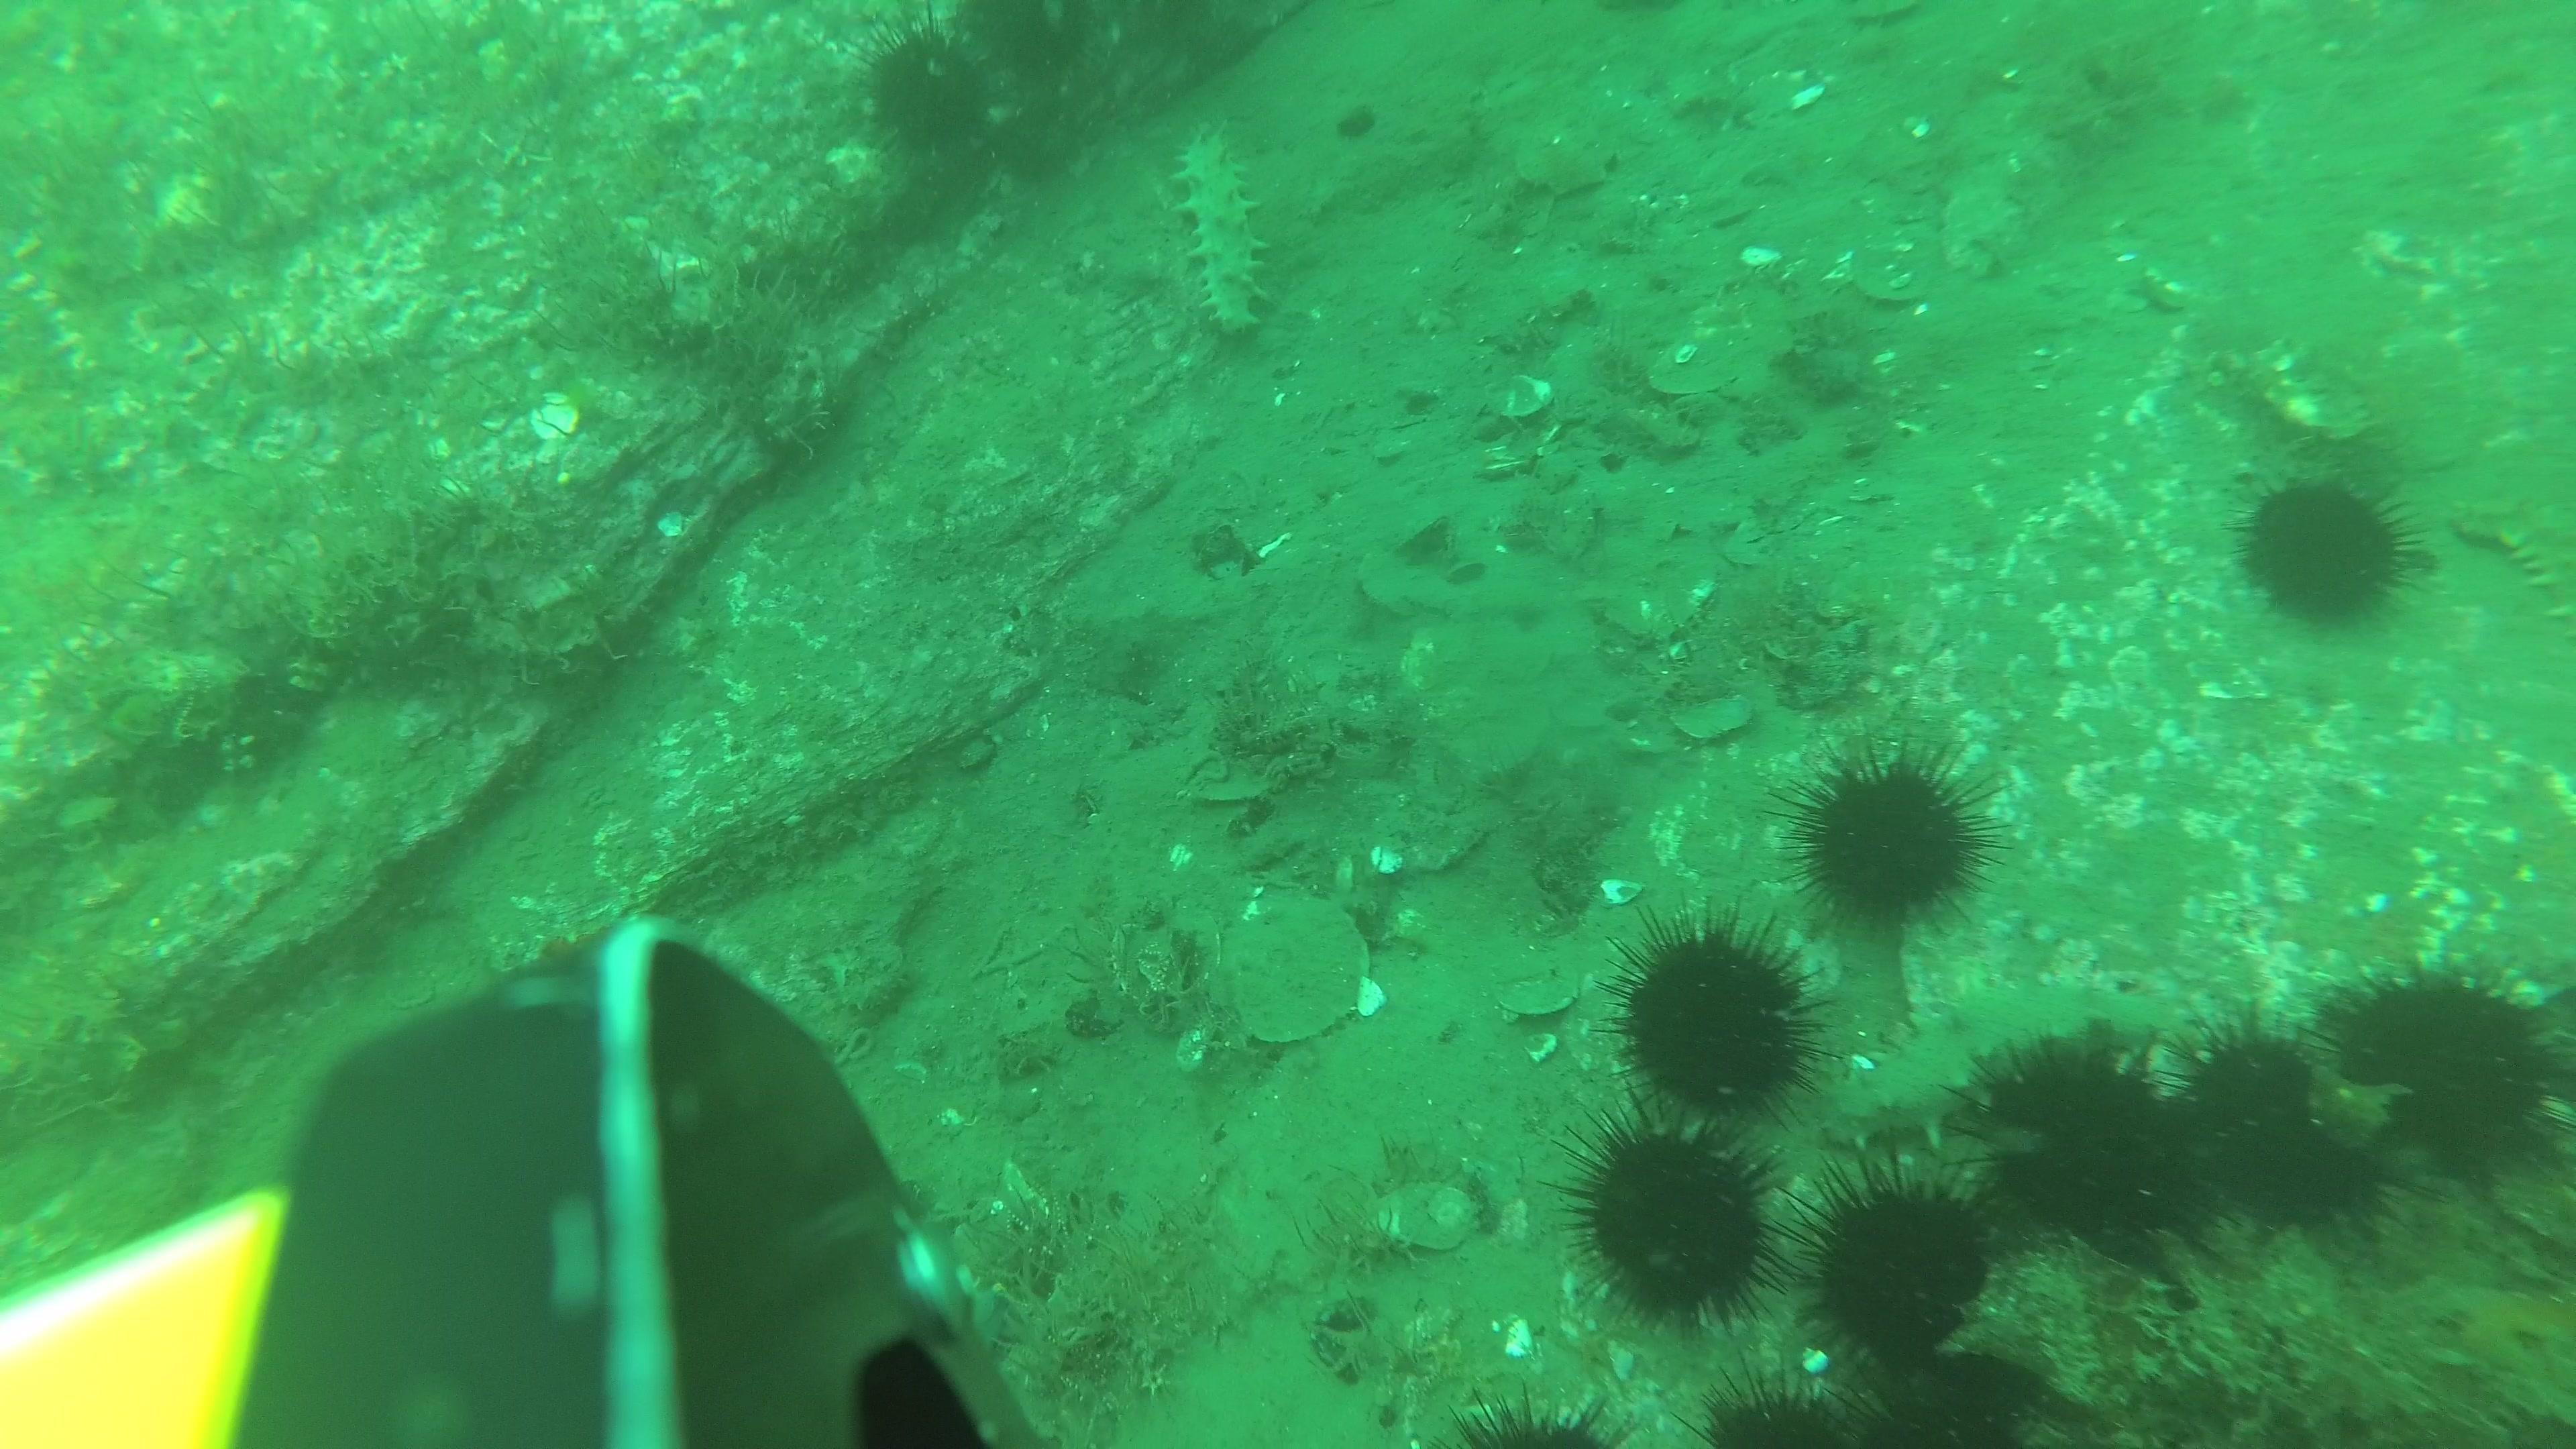echinus: (1541, 1081, 1799, 1352), (2296, 959, 2576, 1198), (2160, 1008, 2413, 1260), (1948, 1035, 2201, 1281), (1596, 902, 1842, 1138), (1775, 1143, 2006, 1391), (1767, 734, 2013, 945), (2224, 471, 2429, 642), (849, 5, 1000, 168), (1661, 1350, 1867, 1449), (1826, 1355, 2035, 1449), (1426, 1376, 1642, 1449), (971, 0, 1100, 80)
holothurian: (1171, 122, 1274, 338), (2454, 492, 2576, 651)
scallop: (1237, 890, 1371, 1047), (1373, 1180, 1477, 1254), (1513, 127, 1614, 198), (1495, 970, 1578, 1021)
